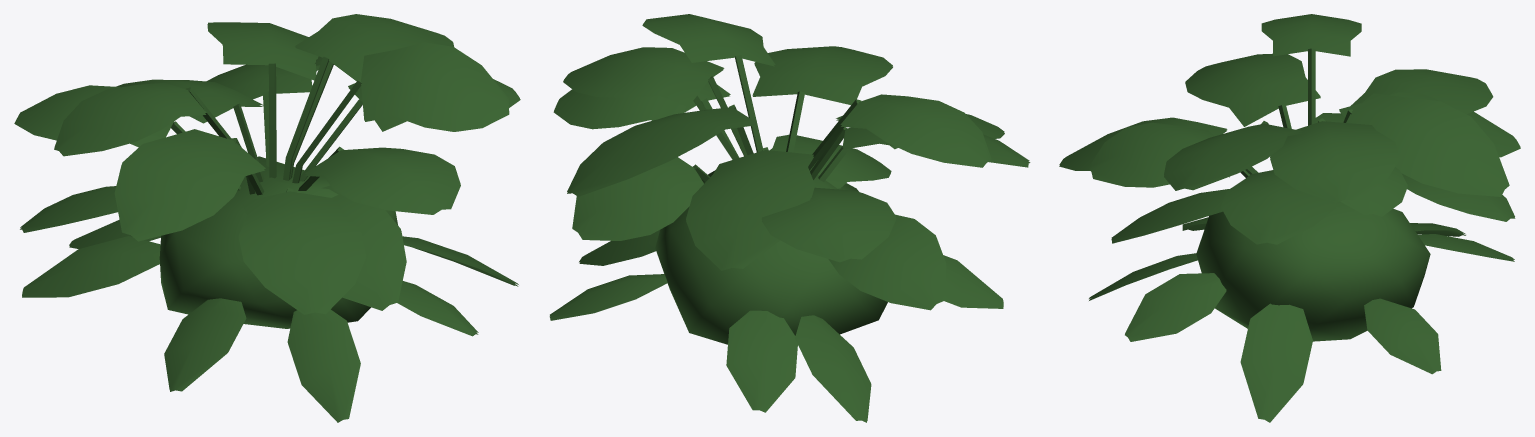
File: zr_bush_jungle.glb
3 views of the same model, side by side, from view 1: azimuth 30°, elevation 25°; view 2: azimuth 150°, elevation 25°; view 3: azimuth 270°, elevation 25° (orthographic). The views are drawn at different scales.
Parts seen in each view (by area): view 1: zr_bush_jungle; view 2: zr_bush_jungle; view 3: zr_bush_jungle.
Boxes of the visible parts, bbox=[...] form: zr_bush_jungle: bbox=[14, 14, 520, 422]; zr_bush_jungle: bbox=[549, 14, 1030, 422]; zr_bush_jungle: bbox=[1059, 14, 1520, 422].
Bounding box in the file's own units: 2.97 × 1.69 × 2.94.
